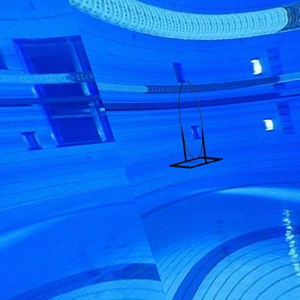circle: (168, 80, 224, 172)
